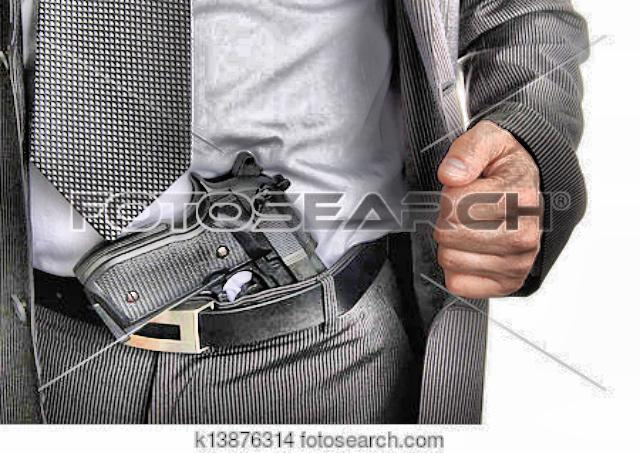pistol: (68, 155, 352, 341)
